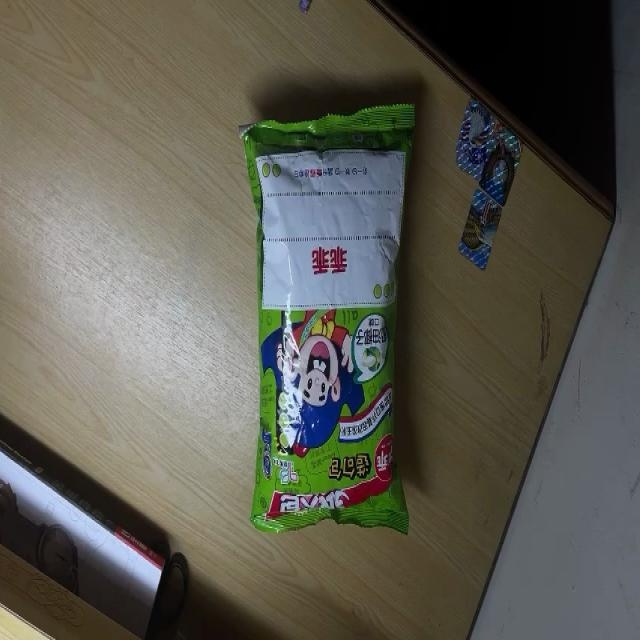Good-Luck: (239, 104, 418, 539)
